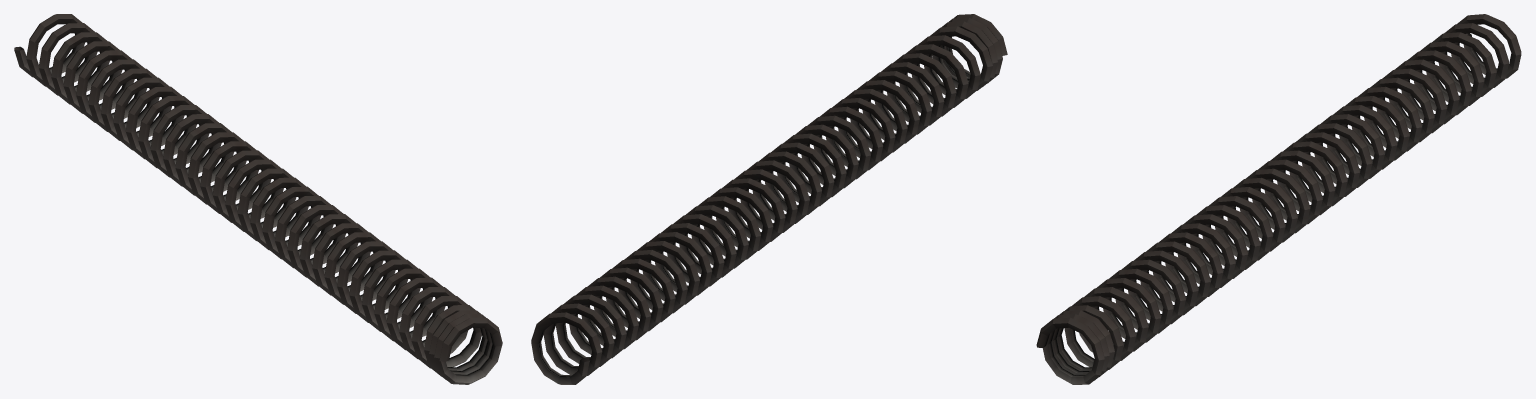
3 views of the same model, side by side, from view 1: azimuth 30°, elevation 25°; view 2: azimuth 150°, elevation 25°; view 3: azimuth 330°, elevation 25° (orthographic).
Parts seen in each view (by area): view 1: TW_651450ce0e00edc794068371_PZ_Import; view 2: TW_651450ce0e00edc794068371_PZ_Import; view 3: TW_651450ce0e00edc794068371_PZ_Import.
Part boxes in pixels (x1,y1,x2,y2): TW_651450ce0e00edc794068371_PZ_Import: (14, 14, 502, 384); TW_651450ce0e00edc794068371_PZ_Import: (531, 14, 1007, 384); TW_651450ce0e00edc794068371_PZ_Import: (1036, 14, 1521, 384).
Size of the model in its own units: 0.00587 by 0.0661 by 0.00587.
Materials: 1 (1 with a texture image).
